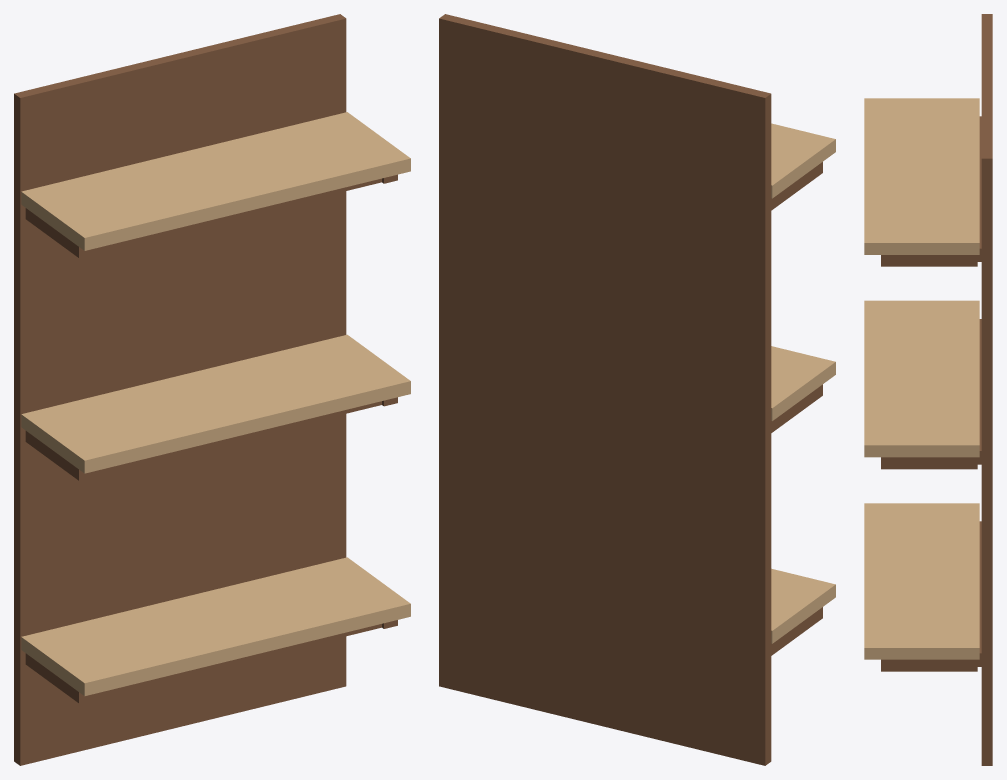
The picture shows the model from 3 angles, left to right: view 1: azimuth 30°, elevation 25°; view 2: azimuth 150°, elevation 25°; view 3: azimuth 270°, elevation 25°; orthographic projection. The views are drawn at different scales.
Visible parts, largest first — view 1: back-panel-wall-sheet, wall-shelf-board-lower, wall-shelf-board-middle, wall-shelf-board-top, back-panel-ledge-middle, back-panel-ledge-lower, back-panel-ledge-top, back-panel-edge-lower-left, back-panel-edge-top-left, back-panel-edge-middle-left; view 2: back-panel-wall-sheet, wall-shelf-board-middle, wall-shelf-board-top, wall-shelf-board-lower; view 3: wall-shelf-board-middle, wall-shelf-board-lower, wall-shelf-board-top, back-panel-wall-sheet, back-panel-edge-lower-right, back-panel-edge-middle-right, back-panel-edge-top-right, back-panel-ledge-middle, back-panel-ledge-lower, back-panel-ledge-top.
Boxes of the visible parts, x1,y1,x2,y2 form: back-panel-wall-sheet: (14,14,346,765); wall-shelf-board-lower: (21,557,410,695); wall-shelf-board-middle: (21,334,410,473); wall-shelf-board-top: (21,112,410,250); back-panel-ledge-middle: (93,401,381,475); back-panel-ledge-lower: (93,624,381,697); back-panel-ledge-top: (93,178,381,252); back-panel-edge-lower-left: (25,653,93,703); back-panel-edge-top-left: (25,208,93,257); back-panel-edge-middle-left: (25,431,93,480); back-panel-wall-sheet: (439,14,771,765); wall-shelf-board-middle: (771,346,835,420); wall-shelf-board-top: (771,123,835,198); wall-shelf-board-lower: (771,568,835,643); wall-shelf-board-middle: (864,300,979,457); wall-shelf-board-lower: (864,503,979,659); wall-shelf-board-top: (864,98,979,254); back-panel-wall-sheet: (981,14,992,765); back-panel-edge-lower-right: (881,659,977,671); back-panel-edge-middle-right: (881,457,977,469); back-panel-edge-top-right: (881,255,977,266); back-panel-ledge-middle: (977,319,981,464); back-panel-ledge-lower: (977,521,981,666); back-panel-ledge-top: (977,116,981,261).
Size of the model in its own units: 0.92 by 1.8 by 0.345.
